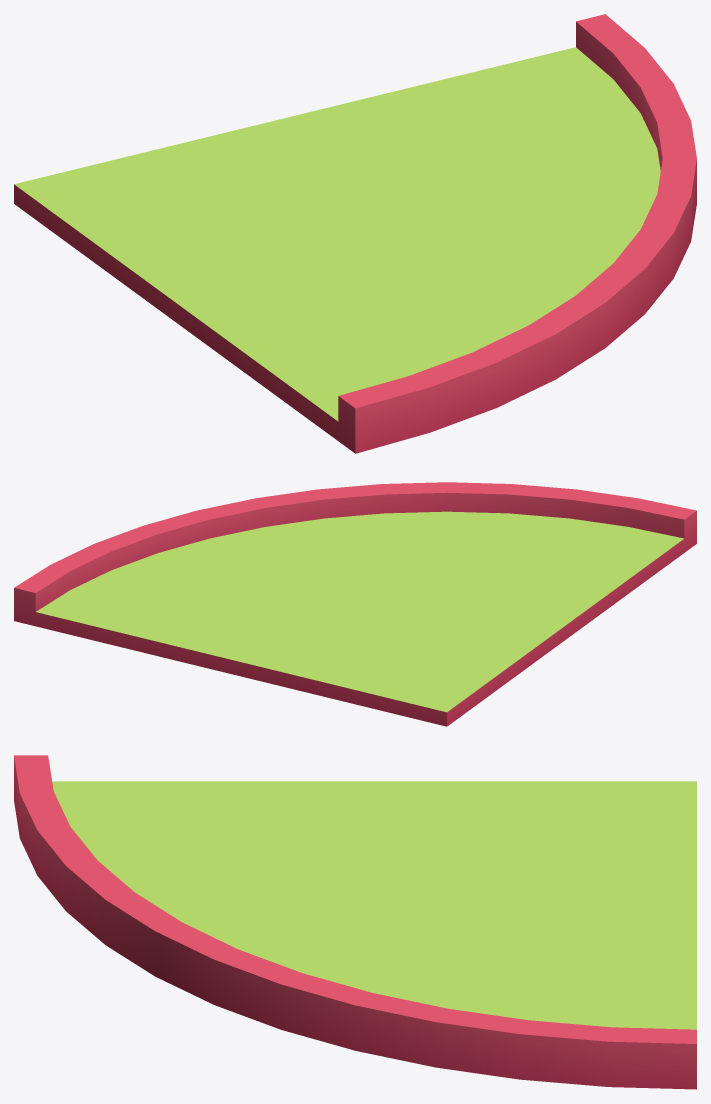
File: round-large-corner-open.fbx
3 views of the same model, one above another, from view 1: azimuth 30°, elevation 25°; view 2: azimuth 150°, elevation 25°; view 3: azimuth 270°, elevation 25° (orthographic). The views are drawn at different scales.
Visible parts, largest first — view 1: round_large_corner_open; view 2: round_large_corner_open; view 3: round_large_corner_open.
Boxes of the visible parts, x1,y1,x2,y2 form: round_large_corner_open: [14, 14, 696, 453]; round_large_corner_open: [14, 482, 696, 726]; round_large_corner_open: [14, 755, 696, 1089].
Size of the model in its own units: 200 by 14.67 by 200.
